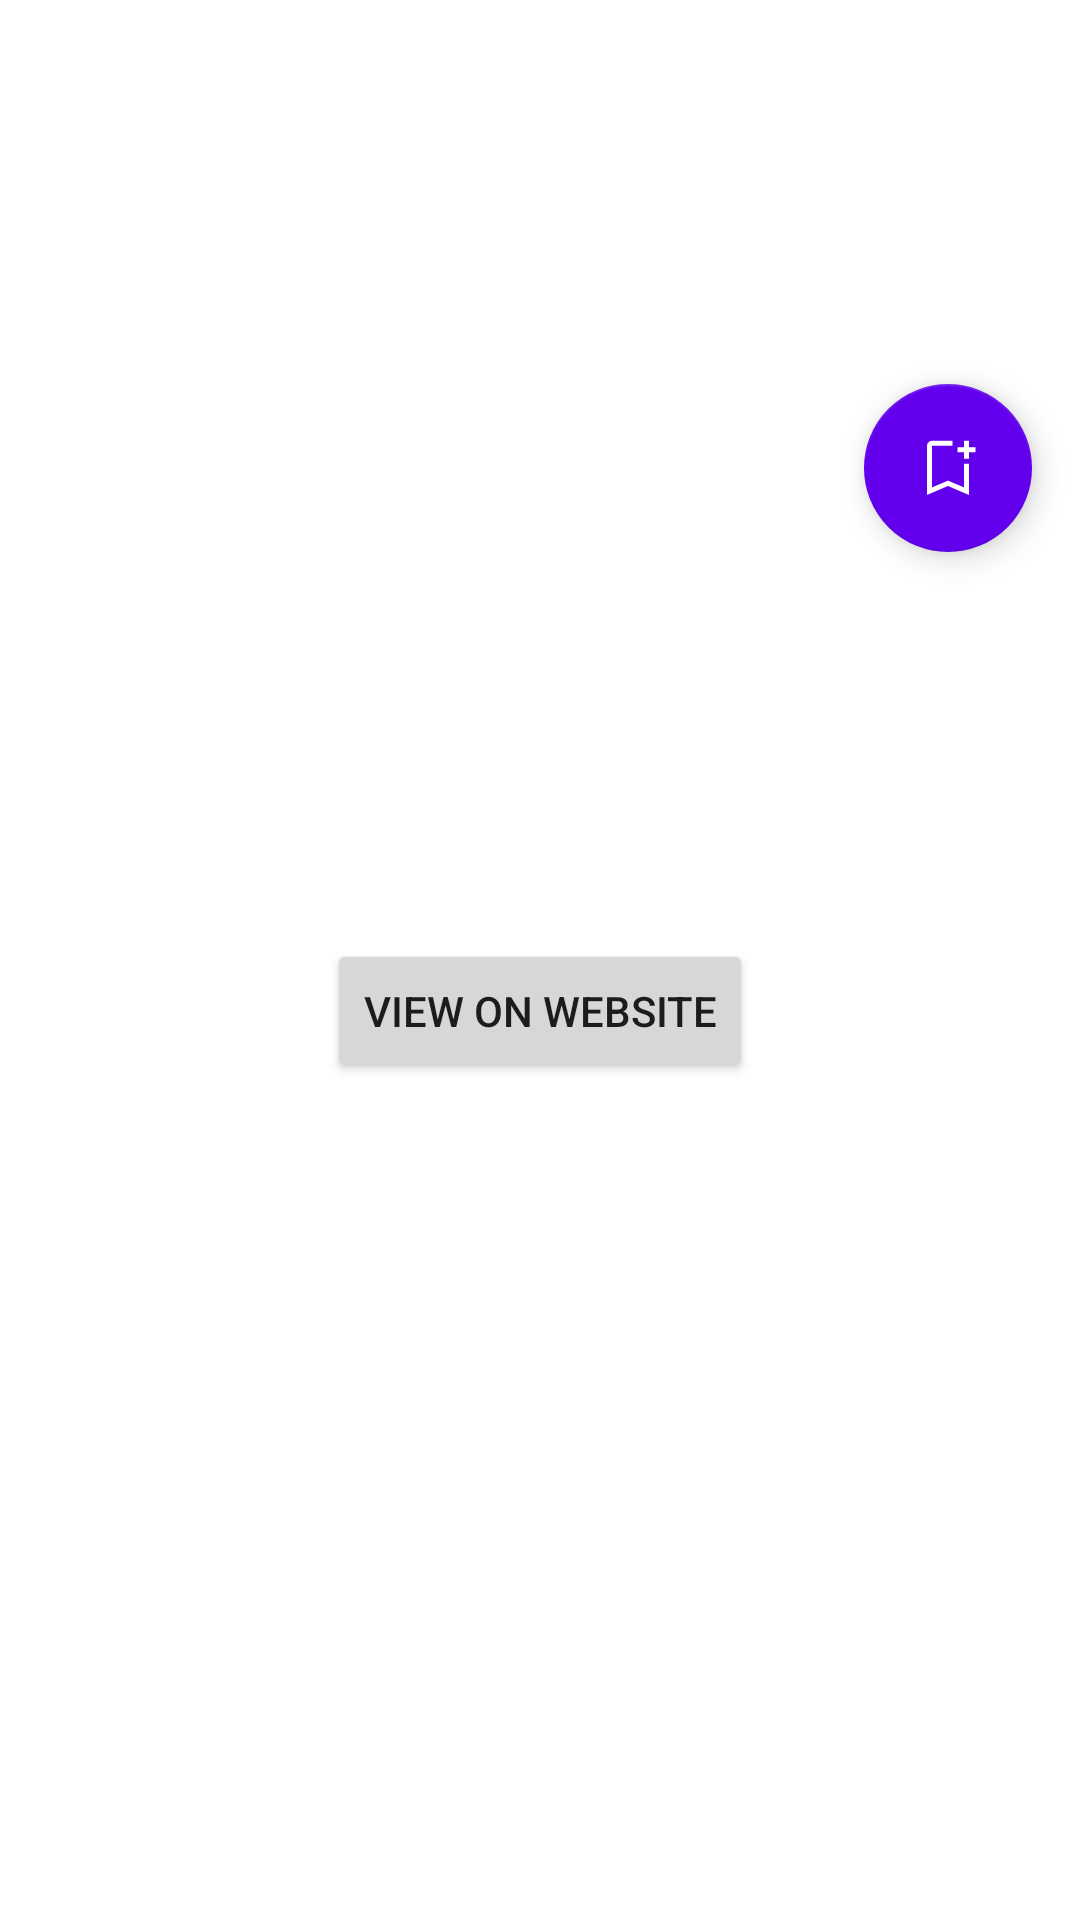

Icon click points for this 1080px x 1920px phone screenshot, format (x=x, y=y):
bookmark add: (x=948, y=468)
